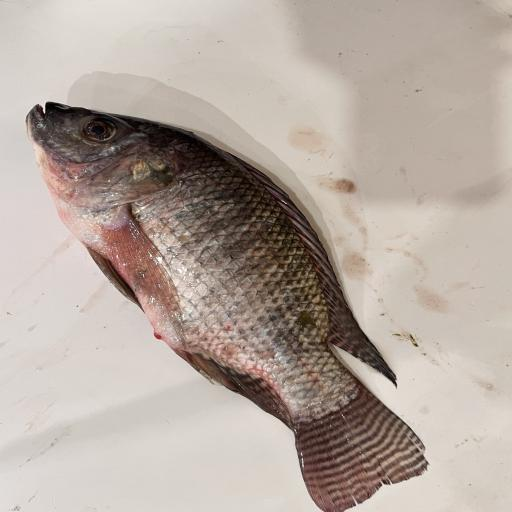Tilapia: (25, 102, 430, 512)
